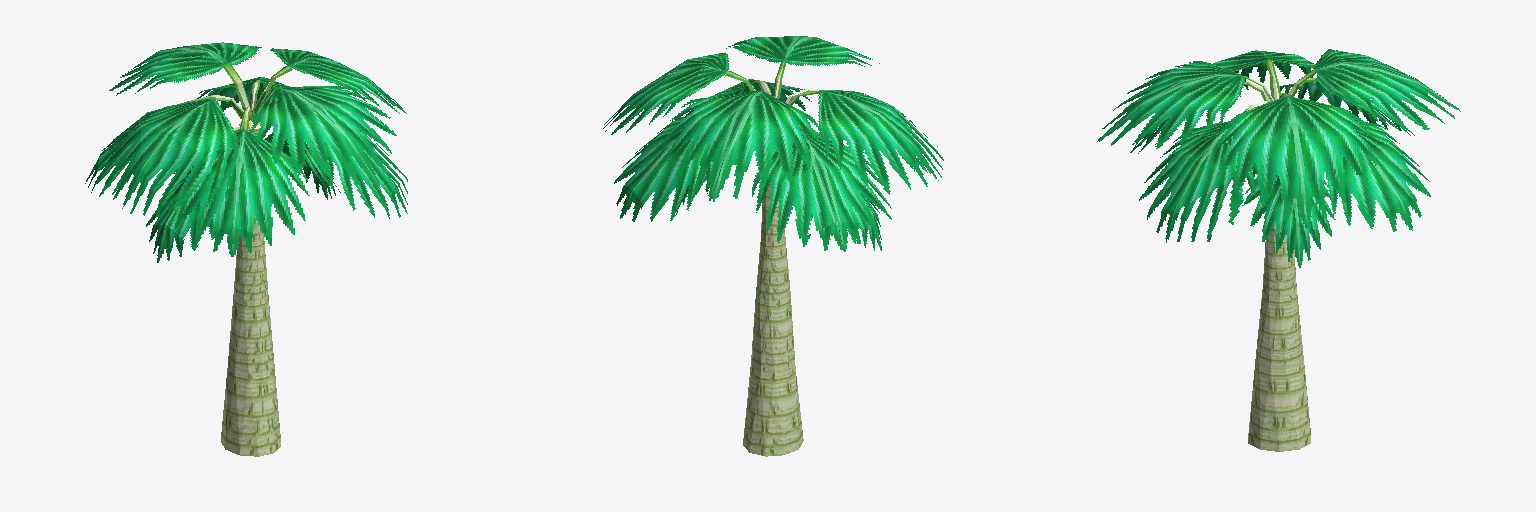
3 views of the same model, side by side, from view 1: azimuth 30°, elevation 25°; view 2: azimuth 150°, elevation 25°; view 3: azimuth 270°, elevation 25° (orthographic).
Size of the model in its own units: 92.26 by 106 by 95.02.
1 materials, 1 textured.